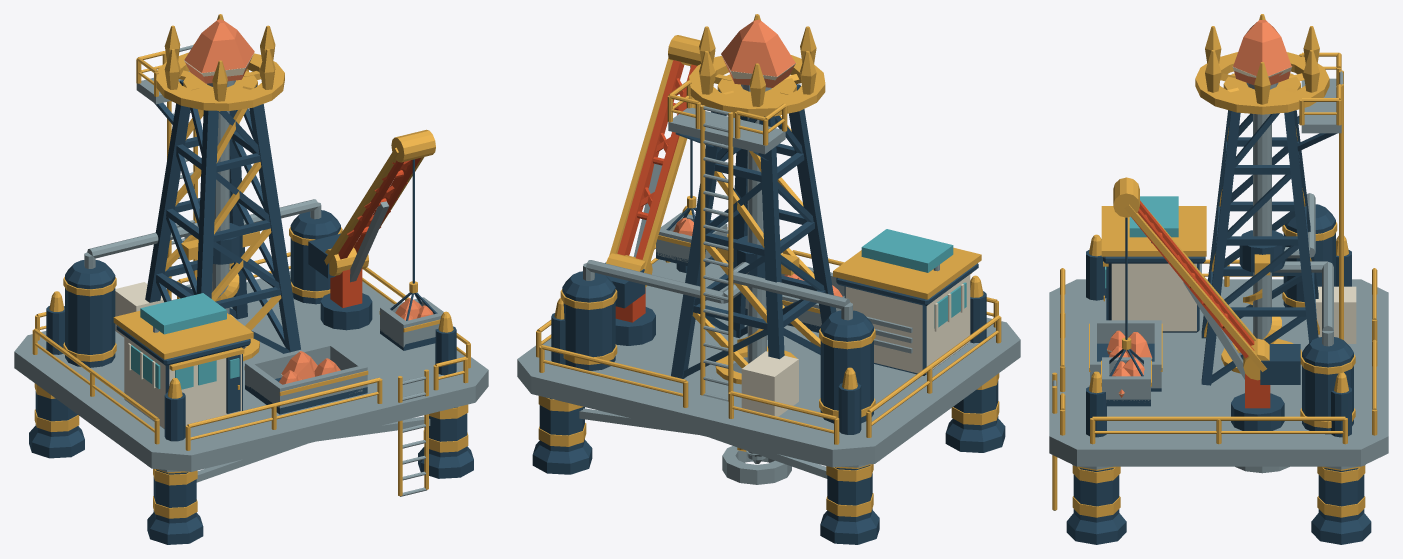
The model's file is ocean-mining-lv4.glb.
The picture shows the model from 3 angles, left to right: view 1: azimuth 30°, elevation 25°; view 2: azimuth 150°, elevation 25°; view 3: azimuth 270°, elevation 25°; orthographic projection. The views are drawn at different scales.
Visible parts, largest first — view 1: Mining_L4, Legendary_Sushi_Ore, Suspended_Ore.003, Spindle_And_Auger.003; view 2: Mining_L4, Legendary_Sushi_Ore, Spindle_And_Auger.003, Suspended_Ore.003; view 3: Mining_L4, Spindle_And_Auger.003, Legendary_Sushi_Ore, Suspended_Ore.003, Ore_Slings.003.
Part boxes in pixels (<box>): Mining_L4: <box>14,14,488,544</box>; Legendary_Sushi_Ore: <box>184,19,254,87</box>; Suspended_Ore.003: <box>379,297,443,350</box>; Spindle_And_Auger.003: <box>211,111,239,318</box>; Mining_L4: <box>517,14,1020,544</box>; Legendary_Sushi_Ore: <box>721,19,795,91</box>; Spindle_And_Auger.003: <box>737,117,768,463</box>; Suspended_Ore.003: <box>656,212,727,266</box>; Mining_L4: <box>1049,14,1388,544</box>; Spindle_And_Auger.003: <box>1243,114,1281,343</box>; Legendary_Sushi_Ore: <box>1233,20,1291,89</box>; Suspended_Ore.003: <box>1101,357,1151,406</box>; Ore_Slings.003: <box>1109,337,1143,376</box>.
Size of the model in its own units: 5.1 by 6.11 by 4.3.
